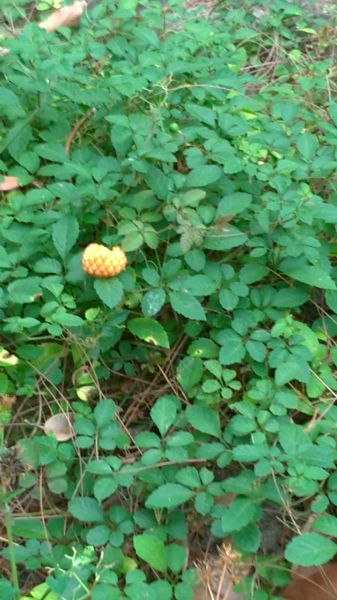eggs: (77, 236, 132, 285)
